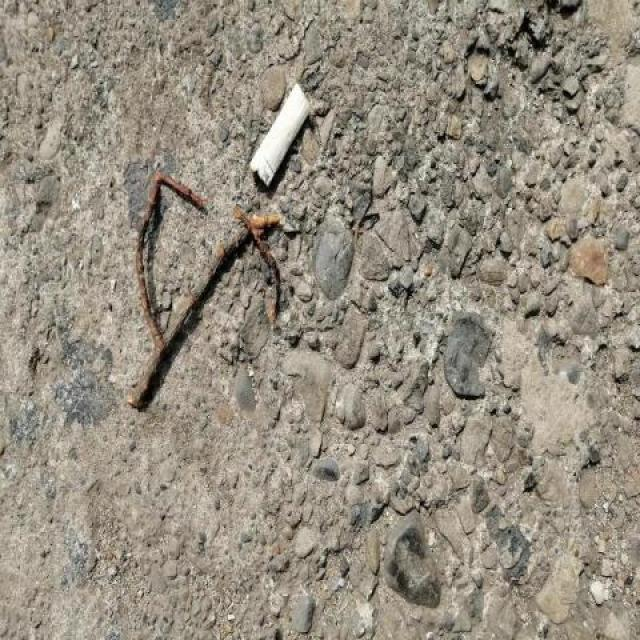non-organic waste: (246, 77, 314, 195)
